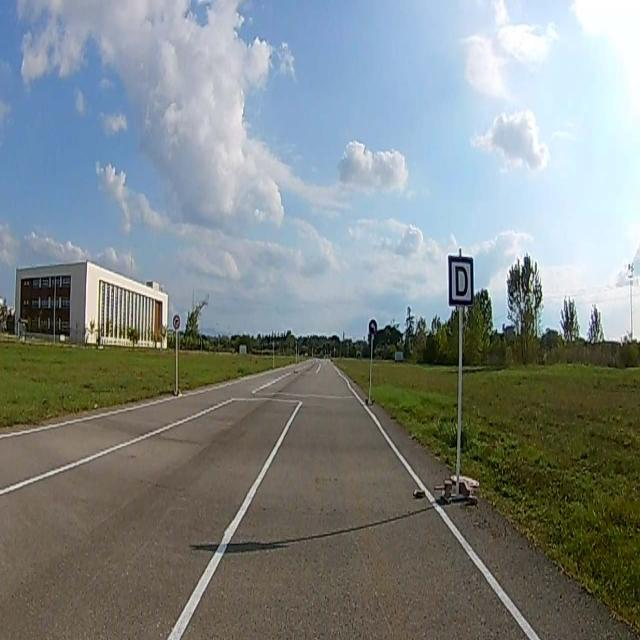durak: (447, 255, 475, 306)
